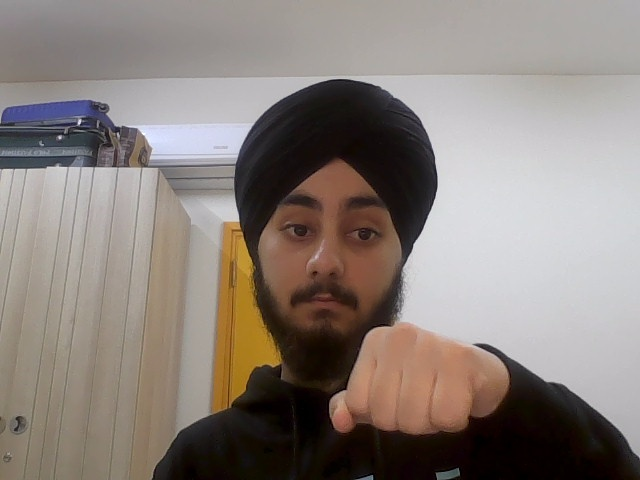Yes: (326, 321, 511, 439)
